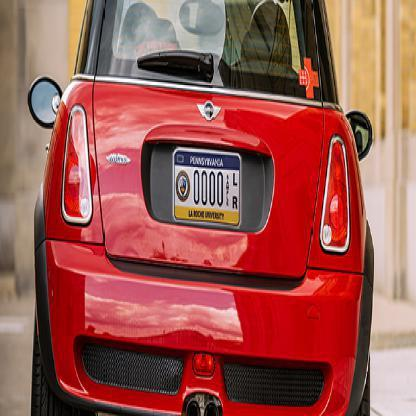License-Plate: (170, 143, 242, 229)
